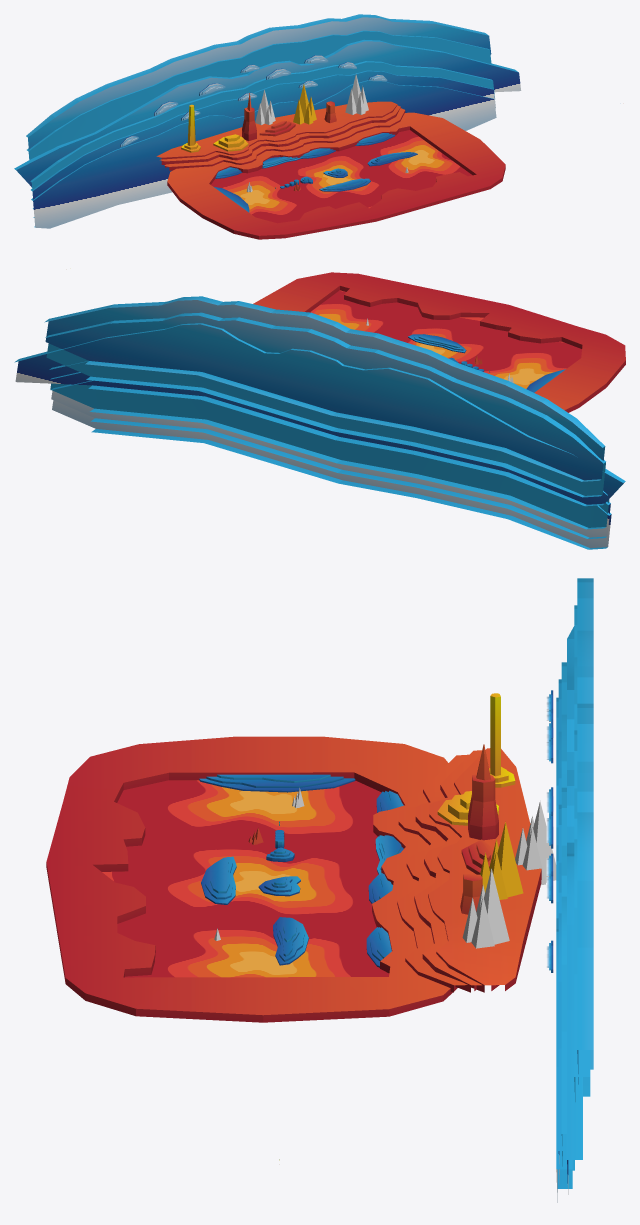
The model's file is environment_deneme.FBX.
3 views of the same model, one above another, from view 1: azimuth 30°, elevation 25°; view 2: azimuth 150°, elevation 25°; view 3: azimuth 270°, elevation 25° (orthographic). The views are drawn at different scales.
Visible parts, largest first — view 1: Group052, Line097, Plane005, Object008, Object006, Object007, Line075, Line071, Line070, Line080; view 2: Group052, Line097, Plane005; view 3: Line097, Plane005, Group052, Object008, Object006, Object007, Line075, Line070, Pyramid034, Pyramid038, Line077.
Part boxes in pixels (x1,y1,x2,y2): Group052: (14,14,521,228); Line097: (167,112,505,239); Plane005: (211,130,472,223); Object008: (156,101,397,164); Object006: (164,108,405,170); Object007: (160,105,400,167); Line075: (242,93,256,141); Line071: (213,134,248,151); Line070: (181,104,200,152); Line080: (259,121,295,136); Group052: (14,296,625,549); Line097: (253,272,625,412); Plane005: (310,290,581,388); Line097: (46,736,457,1022); Plane005: (102,780,389,977); Group052: (556,578,593,1202); Object008: (428,748,541,992); Object006: (397,754,476,992); Object007: (414,750,499,992); Line075: (468,744,498,840); Line070: (489,693,515,787); Pyramid034: (497,822,523,897); Pyramid038: (484,868,509,944); Line077: (206,776,343,787).
Size of the model in its own units: 11405 by 2919 by 5040.
